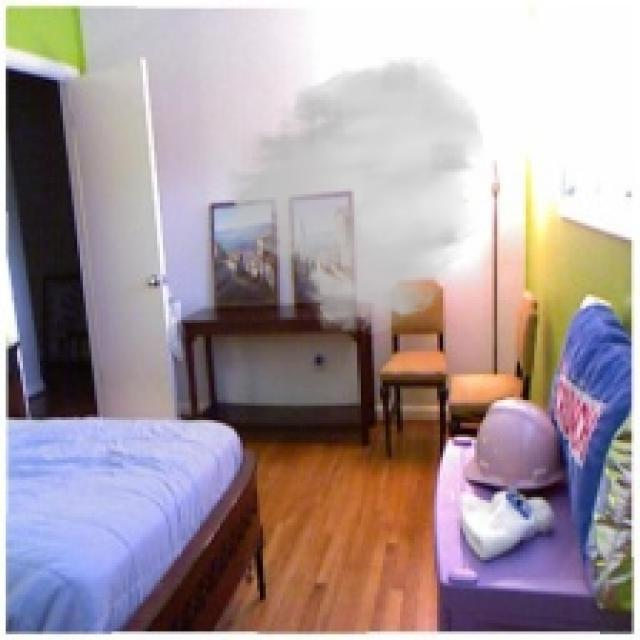Smoke: (214, 54, 486, 337)
